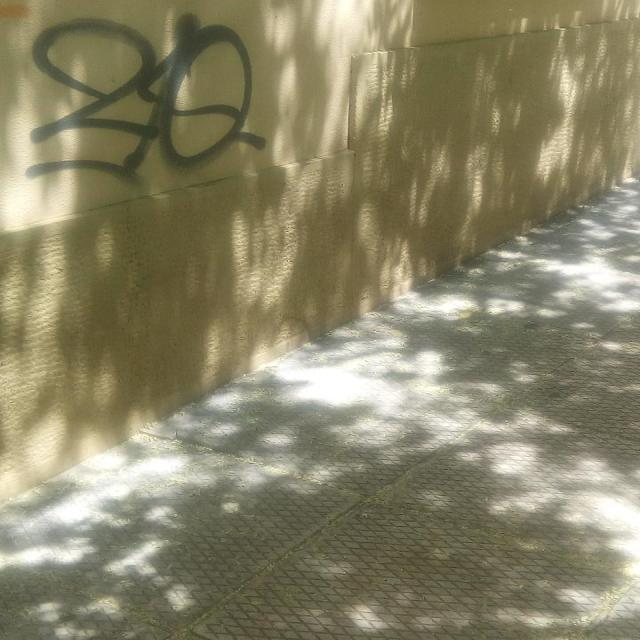nonspitting: (20, 11, 264, 186)
